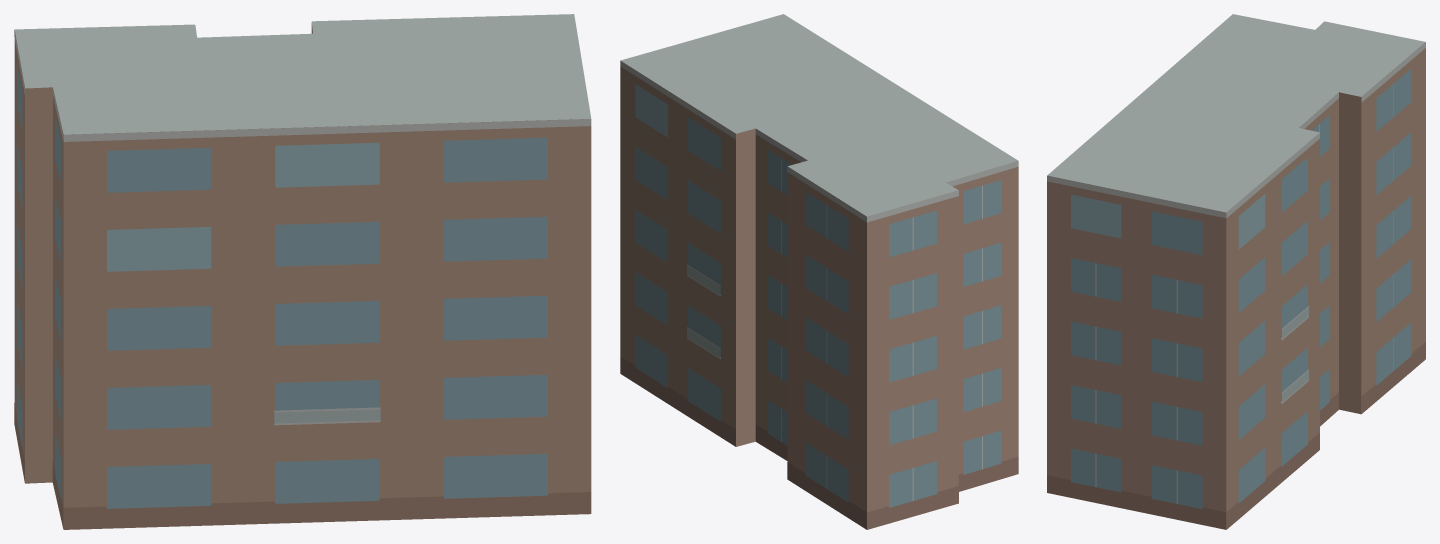
Rendered from survey-upis-32893422.glb.
The picture shows the model from 3 angles, left to right: view 1: azimuth 30°, elevation 25°; view 2: azimuth 150°, elevation 25°; view 3: azimuth 270°, elevation 25°; orthographic projection. The views are drawn at different scales.
Visible parts, largest first — view 1: survey-upis-32893422.tmp; view 2: survey-upis-32893422.tmp; view 3: survey-upis-32893422.tmp.
Boxes of the visible parts, bbox=[...] form: survey-upis-32893422.tmp: bbox=[14, 14, 591, 529]; survey-upis-32893422.tmp: bbox=[620, 14, 1018, 529]; survey-upis-32893422.tmp: bbox=[1047, 14, 1425, 529].
Size of the model in its own units: 17.72 by 13.2 by 14.29.
